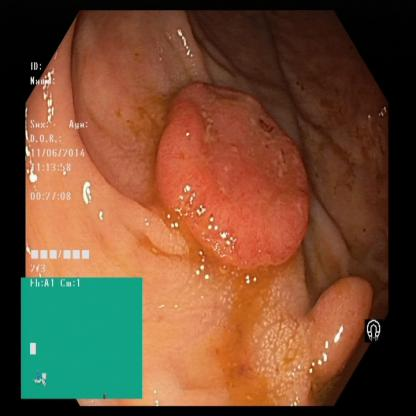Labels: (25, 58, 100, 277), (20, 278, 144, 398), (366, 314, 386, 348)
Polyps: (158, 80, 310, 266), (315, 272, 363, 367)
